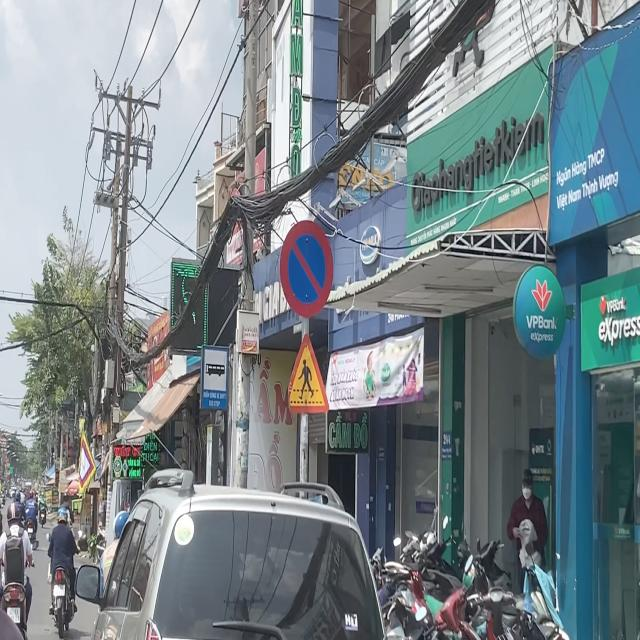Ben xe buyt: (201, 342, 227, 408)
Cam do: (282, 214, 334, 317)
Nguoi di bo cat ngang: (286, 328, 332, 416)
